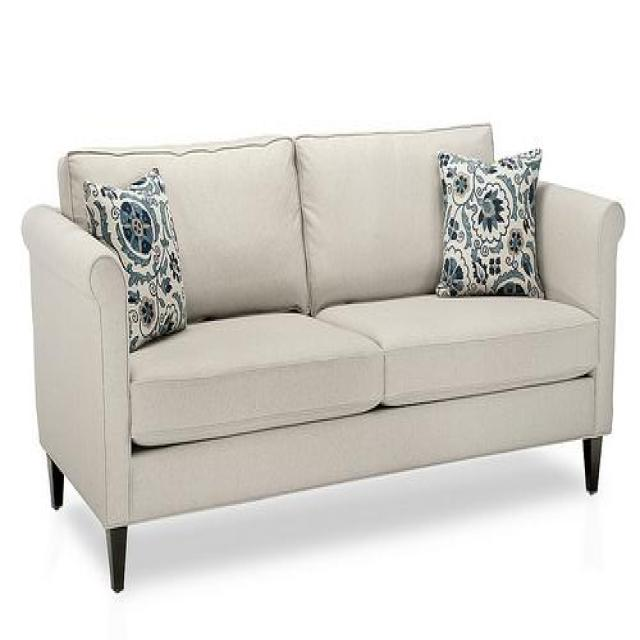sofa: (19, 120, 626, 597)
